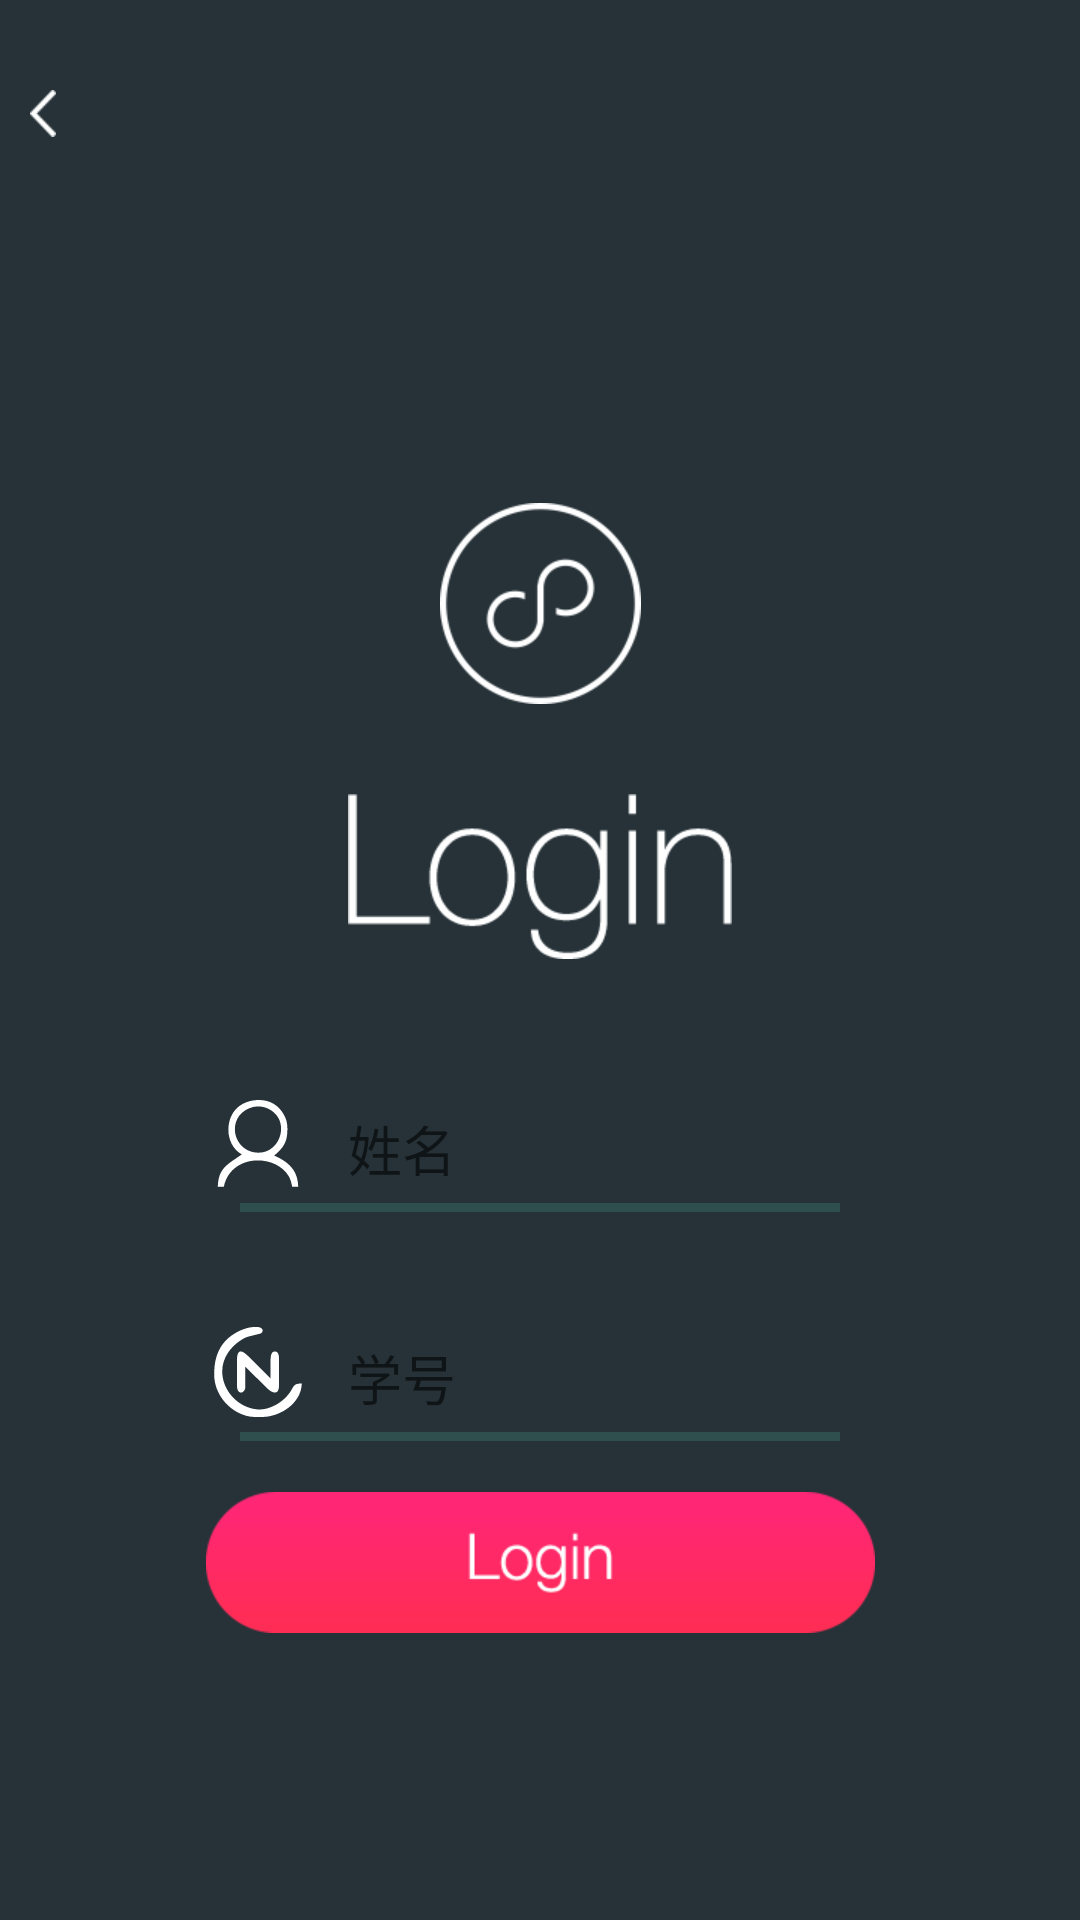

Screen size 1080*1920. Icon name, then its center in pixels as (x,y):
back: (43,113)
